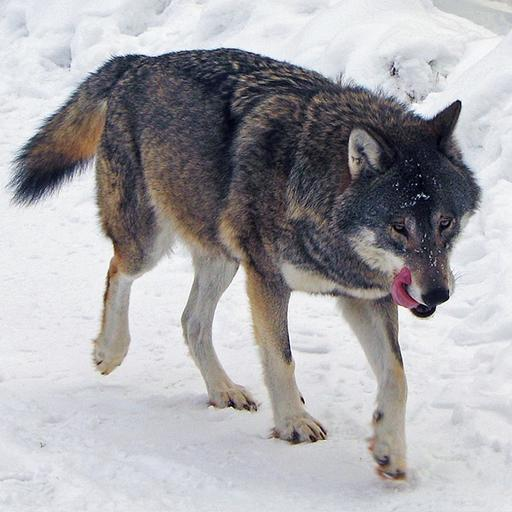Wolf: (11, 43, 489, 496)
